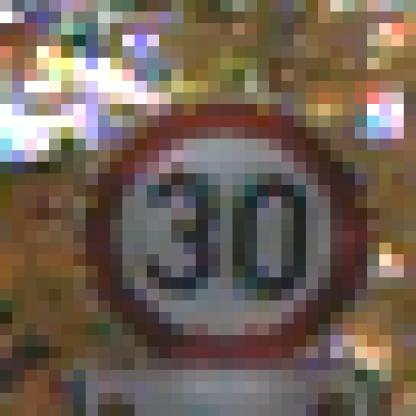Speed Limit 30: (98, 104, 360, 361)
